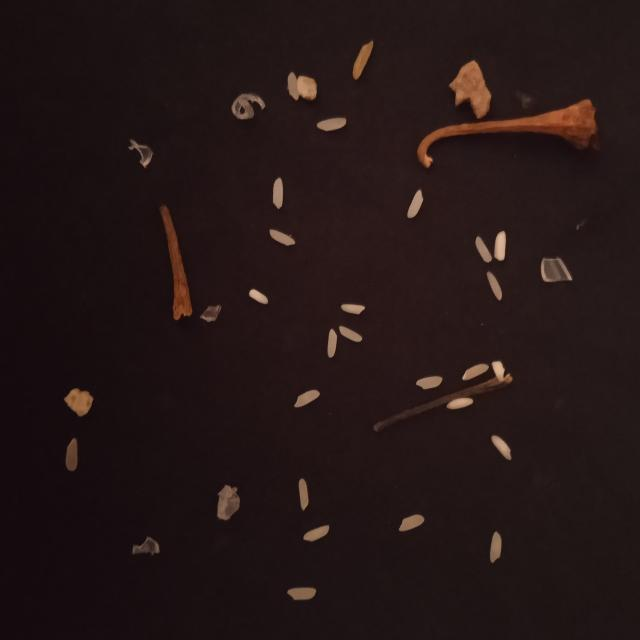Broken: (352, 40, 373, 81), (248, 288, 268, 305), (492, 361, 505, 382)
Full: (491, 435, 512, 460), (294, 389, 321, 408), (303, 524, 330, 542), (407, 190, 424, 218), (398, 514, 424, 532), (462, 364, 489, 381), (316, 117, 347, 131), (476, 236, 492, 263), (487, 272, 502, 300), (270, 229, 296, 245), (66, 438, 78, 472), (287, 587, 317, 600), (490, 531, 502, 563), (338, 326, 362, 342), (287, 71, 299, 101), (494, 231, 506, 261), (416, 376, 442, 389), (299, 478, 309, 511), (327, 328, 338, 358), (273, 177, 283, 209), (447, 398, 473, 410), (341, 304, 365, 316)
